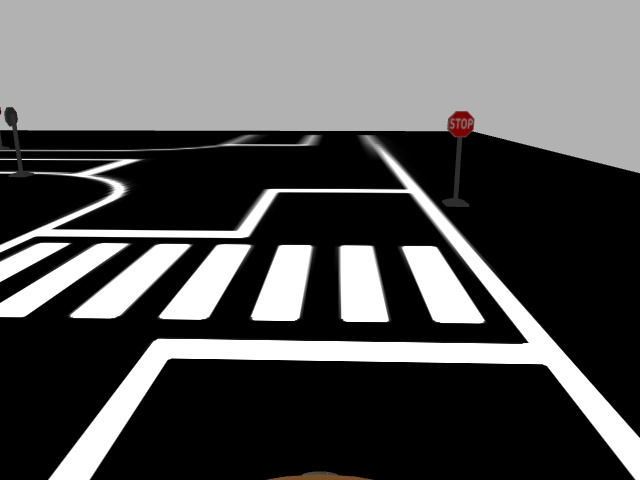stop: (444, 109, 477, 139)
